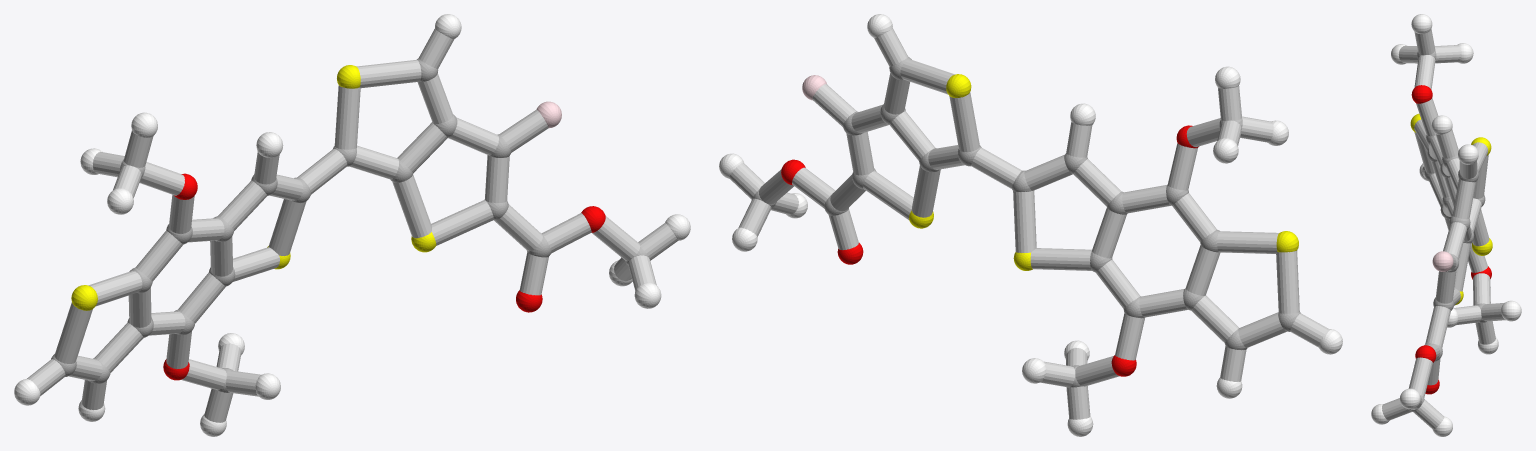
Rendered from Dimethoxy_Benzodithiophene_Phi_15_Theta_330_Methylcarbonyl_3_Fluoro_Thienothiophene.glb.
3 views of the same model, side by side, from view 1: azimuth 30°, elevation 25°; view 2: azimuth 150°, elevation 25°; view 3: azimuth 270°, elevation 25° (orthographic). The views are drawn at different scales.
Visible parts, largest first — view 1: grp15205, grp8689, grp1, grp7241, grp13395; view 2: grp15205, grp8689, grp1, grp7241, grp13395; view 3: grp15205, grp8689, grp1, grp13395, grp7241, grp14843.
Part boxes in pixels (x1,y1,x2,y2): grp15205: [27, 29, 677, 422]; grp8689: [14, 14, 690, 436]; grp1: [51, 58, 647, 392]; grp7241: [71, 65, 436, 310]; grp13395: [163, 173, 605, 380]; grp15205: [729, 28, 1328, 419]; grp8689: [719, 14, 1342, 436]; grp1: [752, 56, 1300, 387]; grp7241: [909, 74, 1298, 270]; grp13395: [781, 125, 1198, 376]; grp15205: [1382, 29, 1505, 429]; grp8689: [1371, 14, 1521, 436]; grp1: [1409, 50, 1486, 411]; grp13395: [1411, 85, 1491, 394]; grp7241: [1410, 113, 1492, 305]; grp14843: [1432, 251, 1453, 271].
Size of the model in its own units: 17.05 by 9.38 by 4.32.
